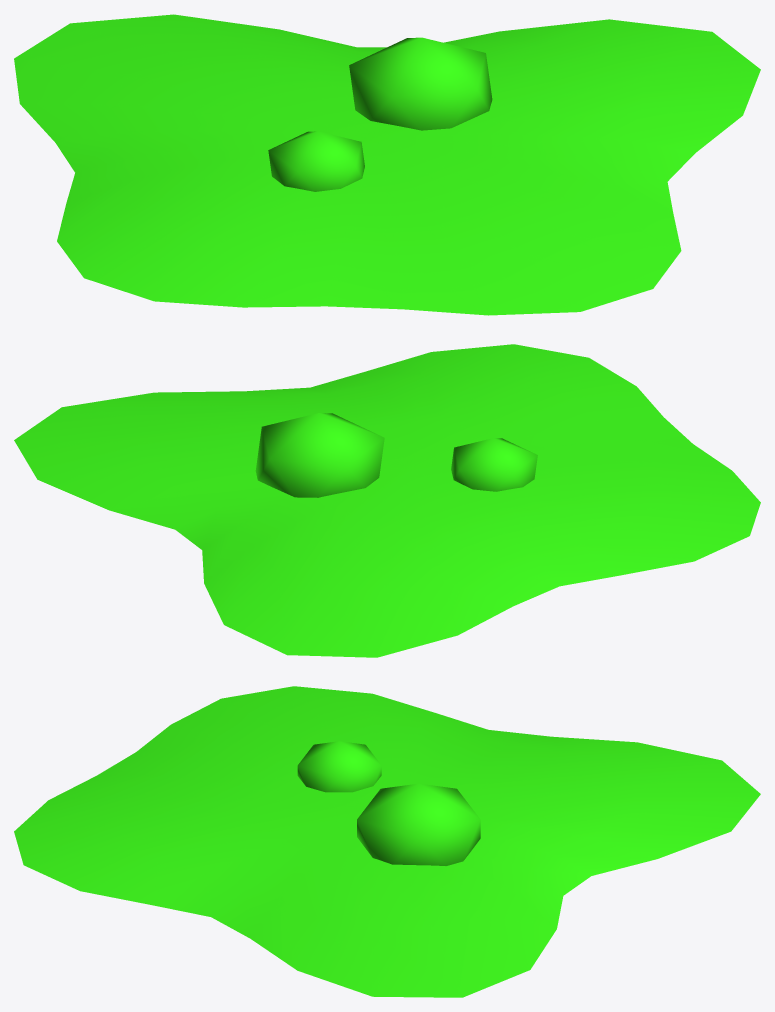
Rendered from w4_07_slime_trap.glb.
The picture shows the model from 3 angles, top to bottom: view 1: azimuth 30°, elevation 25°; view 2: azimuth 150°, elevation 25°; view 3: azimuth 270°, elevation 25°; orthographic projection. The views are drawn at different scales.
Parts seen in each view (by area): view 1: W4_07_SlimeTrap; view 2: W4_07_SlimeTrap; view 3: W4_07_SlimeTrap.
Boxes of the visible parts, box(x1,y1,x2,y2) form: W4_07_SlimeTrap: box(14, 14, 760, 315); W4_07_SlimeTrap: box(14, 344, 760, 657); W4_07_SlimeTrap: box(14, 686, 760, 997).
Size of the model in its own units: 2.24 by 0.33 by 2.26.
1 material, 1 textured.
